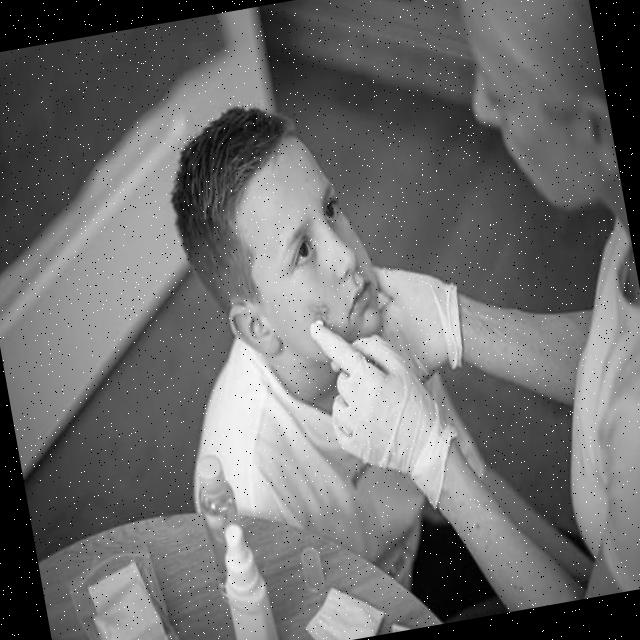Fear: (244, 126, 386, 350)
